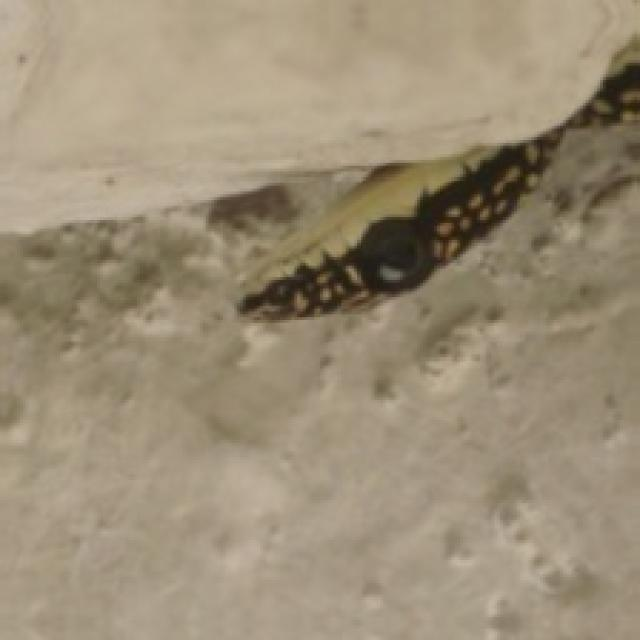paradise tree snake: (240, 37, 637, 317), (240, 57, 637, 317)
